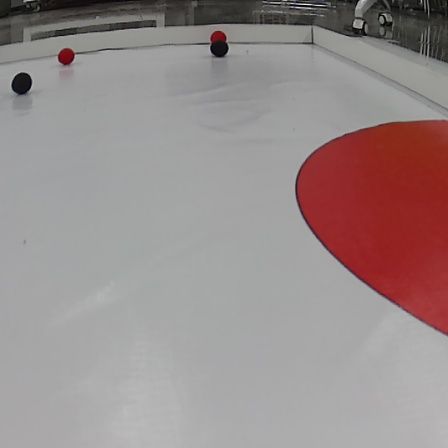black: (11, 71, 34, 97), (208, 40, 233, 56)
red: (55, 45, 78, 66), (209, 30, 229, 43)
red_base: (295, 120, 448, 337)
